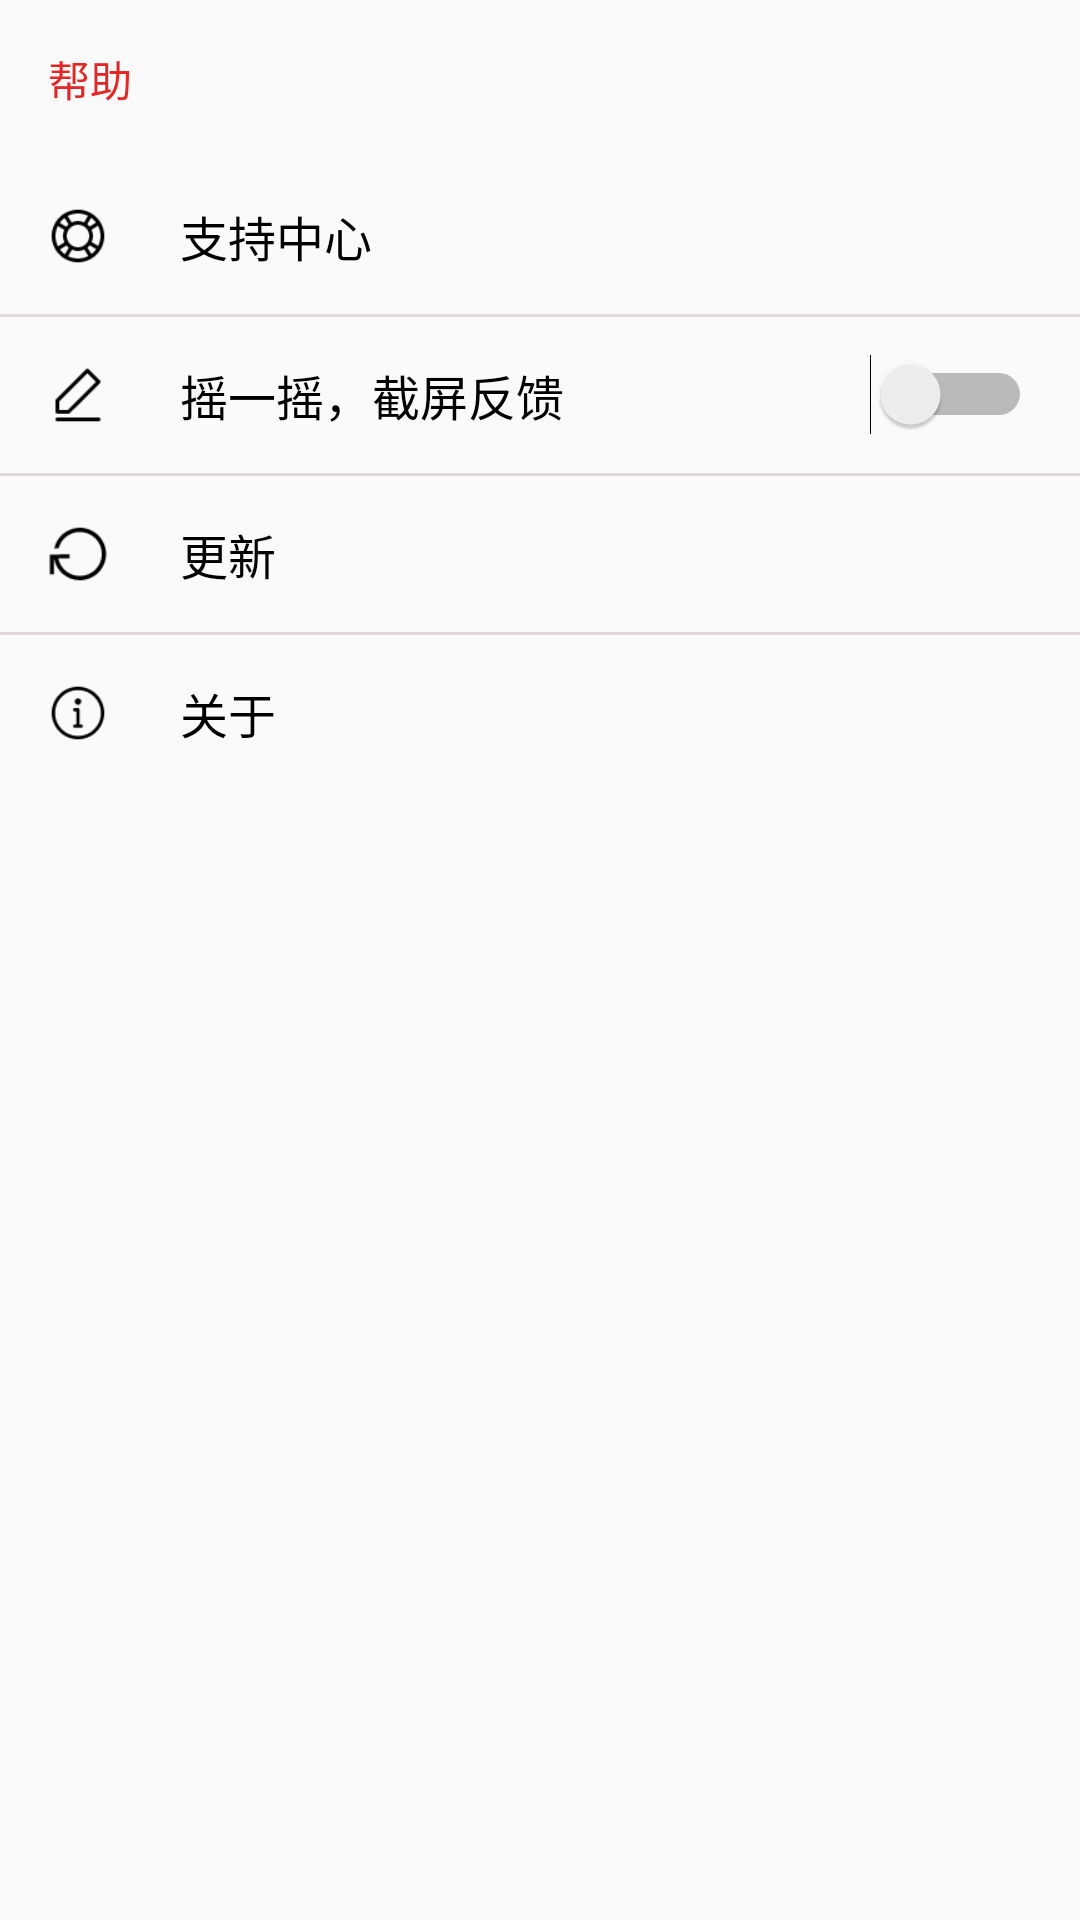

Icon bounding boxes for this 1080x1920 phone screenshot, format (x1, y1, x2, y2):
about: (51, 686, 105, 740)
feedback: (55, 368, 101, 422)
support center: (51, 209, 105, 263)
update: (49, 527, 107, 581)
